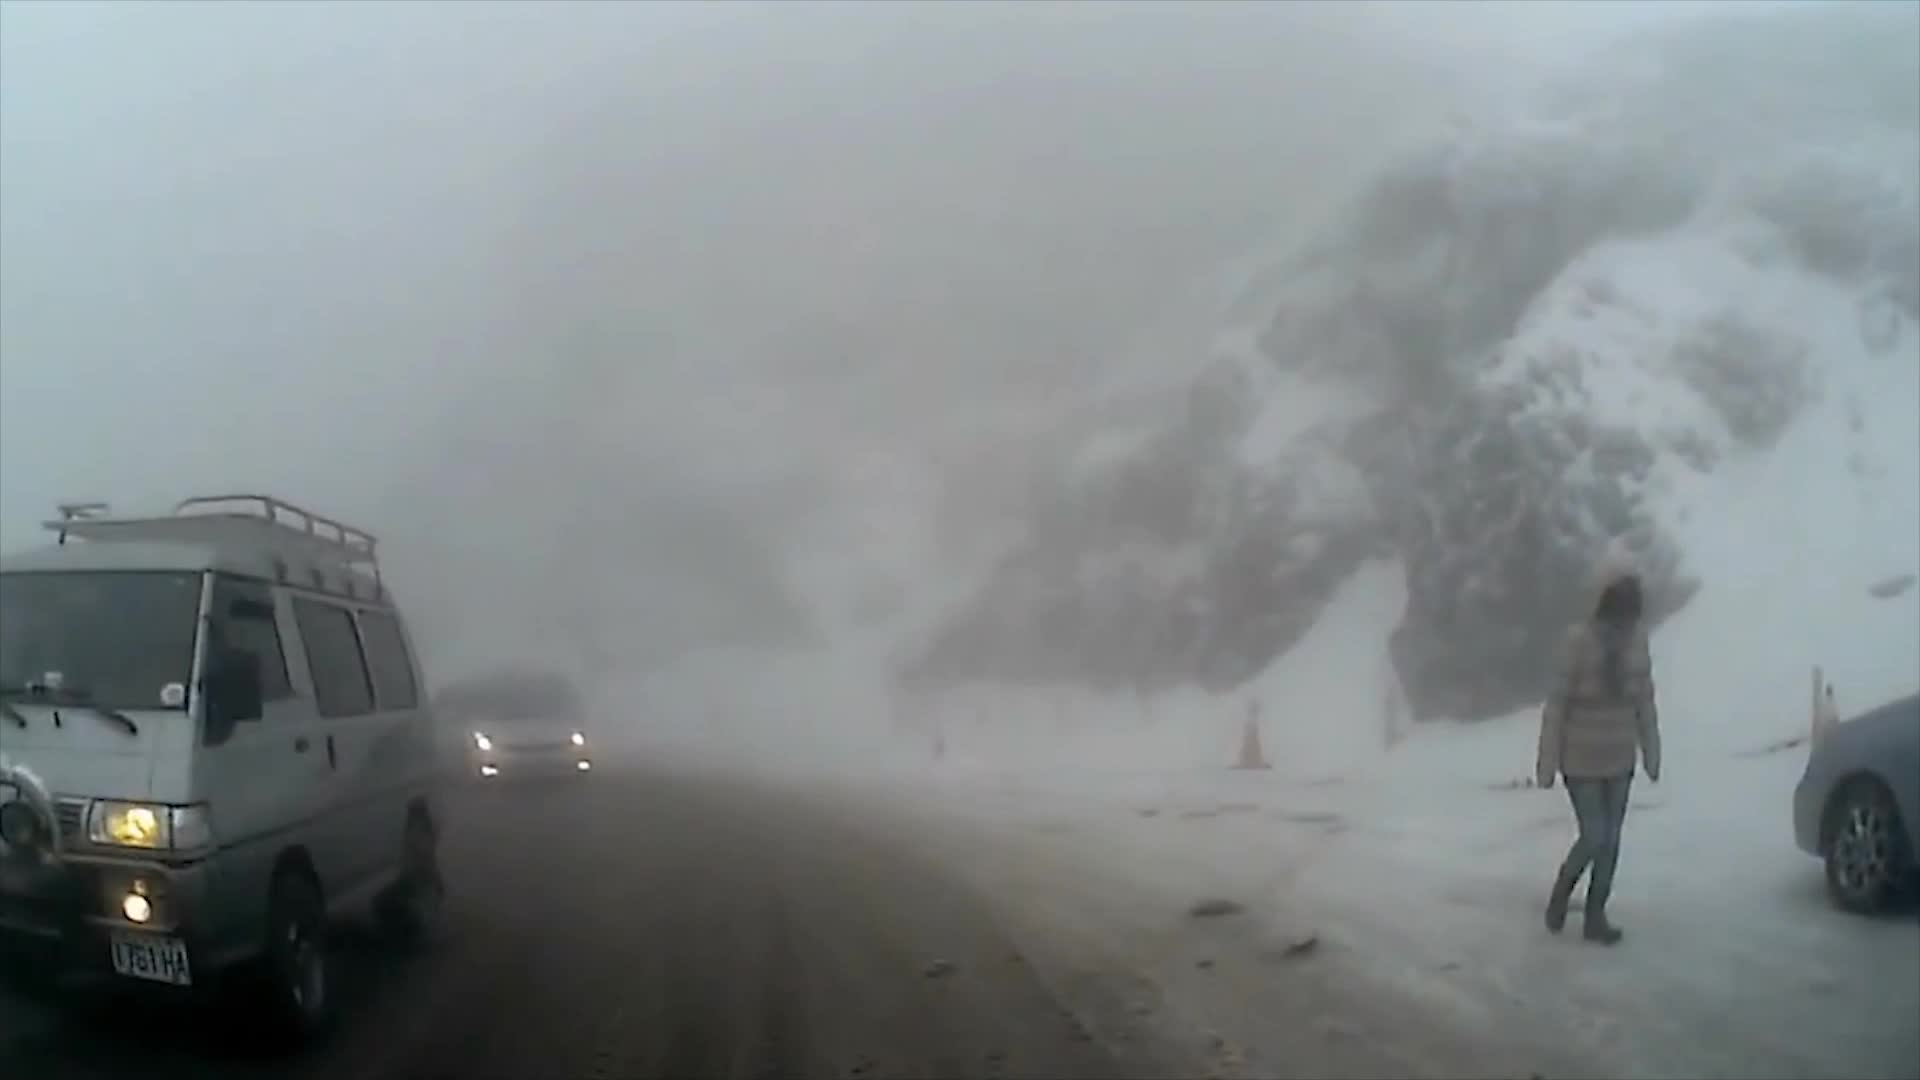pedestrian: (1532, 568, 1664, 945)
vehicle: (0, 487, 449, 1053), (1792, 694, 1919, 919), (428, 670, 596, 793)
